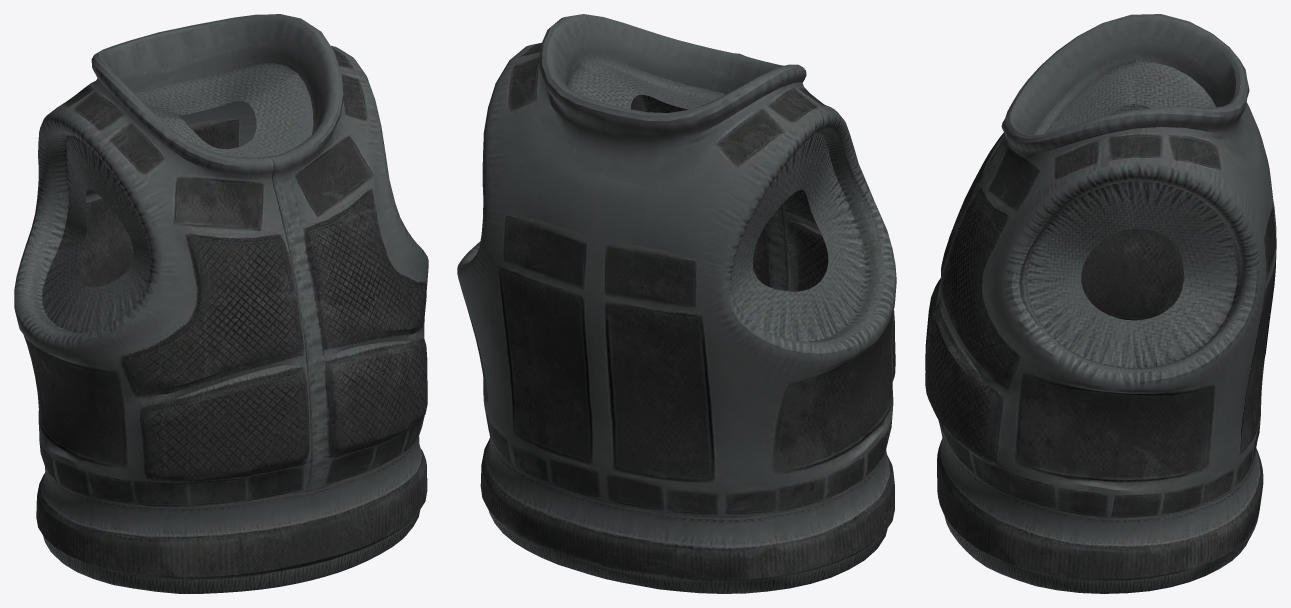
Rendered from leather-vest-compressed.glb.
3 renders of one model, left to right at view 1: azimuth 30°, elevation 25°; view 2: azimuth 150°, elevation 25°; view 3: azimuth 270°, elevation 25°, orthographic. The views are drawn at different scales.
Parts seen in each view (by area): view 1: Object_2; view 2: Object_2; view 3: Object_2.
Boxes of the visible parts, x1,y1,x2,y2 form: Object_2: [14, 14, 428, 593]; Object_2: [457, 14, 896, 593]; Object_2: [925, 14, 1276, 593].
Size of the model in its own units: 0.4608 by 0.5534 by 0.3869.
Materials: 1 (1 with a texture image).
